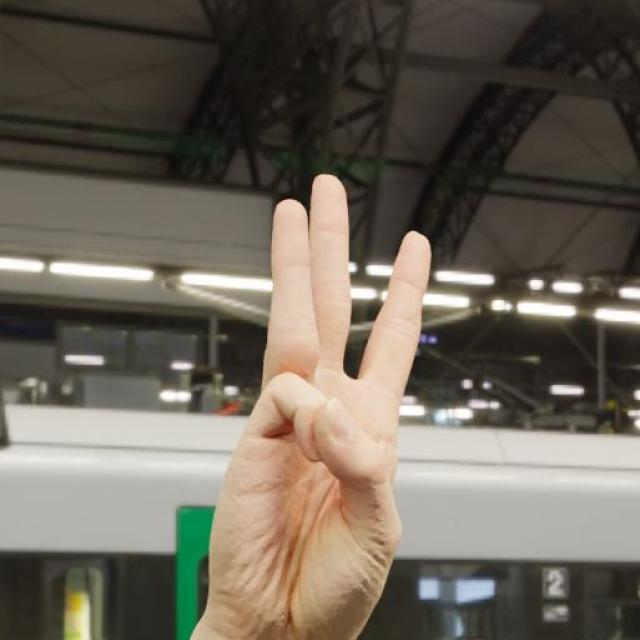W: (191, 167, 438, 639)
